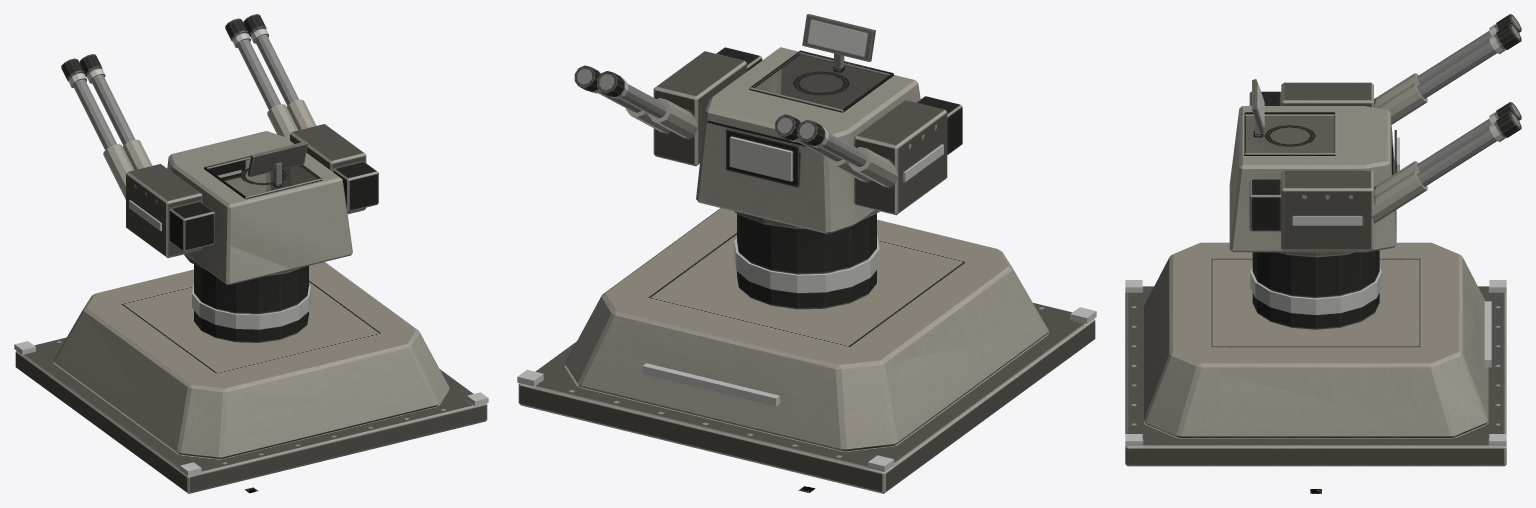
The model's file is ord_lumen.fbx.
The picture shows the model from 3 angles, left to right: view 1: azimuth 30°, elevation 25°; view 2: azimuth 150°, elevation 25°; view 3: azimuth 270°, elevation 25°; orthographic projection. The views are drawn at different scales.
Parts seen in each view (by area): view 1: base_bar, turret_bar, base_glow_power_bar, base_glow_running_bar, turret_glow_weapon_bar; view 2: base_bar, turret_bar, turret_glow_running_bar, base_glow_power_bar, base_glow_running_bar; view 3: base_bar, turret_bar, base_glow_power_bar, base_glow_running_bar, turret_glow_running_bar, turret_glow_weapon_bar.
Boxes of the visible parts, x1,y1,x2,y2 form: base_bar: (15,254,487,493); turret_bar: (61,14,378,285); base_glow_power_bar: (192,283,310,329); base_glow_running_bar: (14,341,488,475); turret_glow_weapon_bar: (69,28,268,87); base_bar: (518,208,1095,493); turret_bar: (574,14,962,234); turret_glow_running_bar: (729,20,943,181); base_glow_power_bar: (734,236,879,292); base_glow_running_bar: (517,307,1096,471); base_bar: (1125,242,1506,466); turret_bar: (1229,14,1521,252); base_glow_power_bar: (1250,267,1381,314); base_glow_running_bar: (1125,280,1506,446); turret_glow_running_bar: (1257,84,1399,225); turret_glow_weapon_bar: (1489,24,1505,141).
Bounding box in the file's own units: 660 × 816 × 686.
2 materials, 2 textured.
